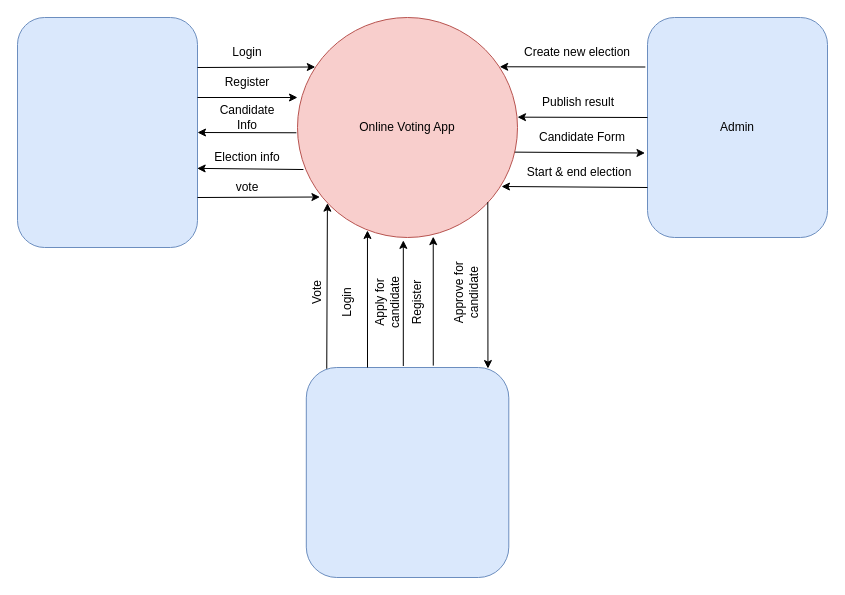
Image size: 845x595. Some labels were removed from this diagram. Here are the shapes that lost their labels. From the top down, the box of each, then its label:
(16, 16, 198, 248): Voter
(305, 366, 509, 578): Candidate
